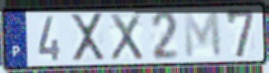2: (149, 10, 181, 63)
4: (37, 14, 62, 62)
7: (224, 9, 258, 60)
M: (182, 9, 224, 60)
X: (68, 12, 107, 65), (109, 12, 145, 63)
